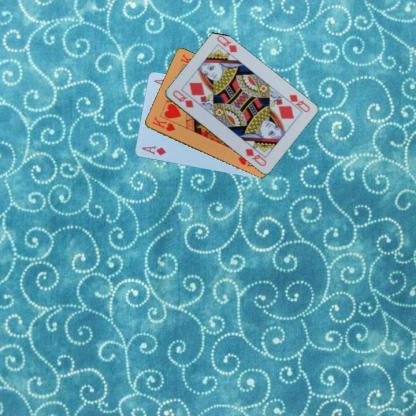Ad: (139, 143, 167, 157)
Kh: (149, 114, 176, 132)
Qd: (282, 92, 311, 114), (170, 88, 195, 108)
